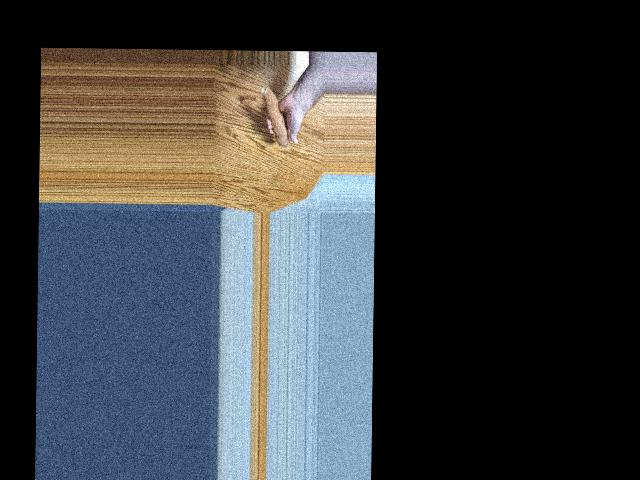sweet_potato: (260, 85, 290, 147)
